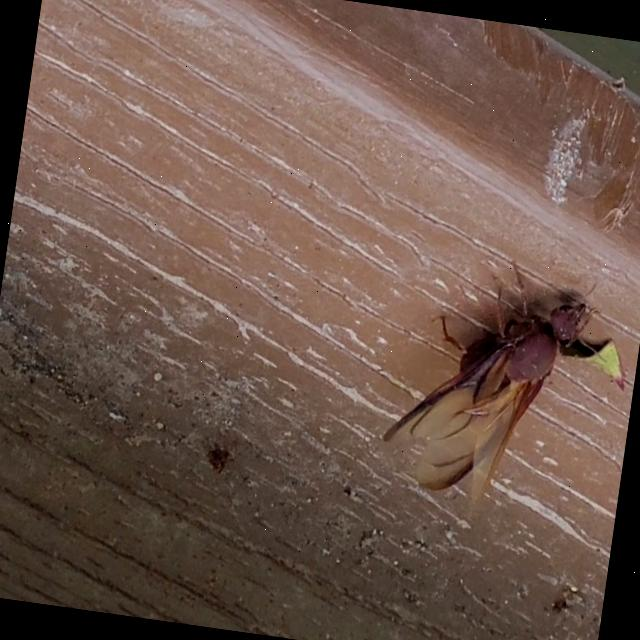Alive-Female-Alate: (376, 246, 620, 518)
